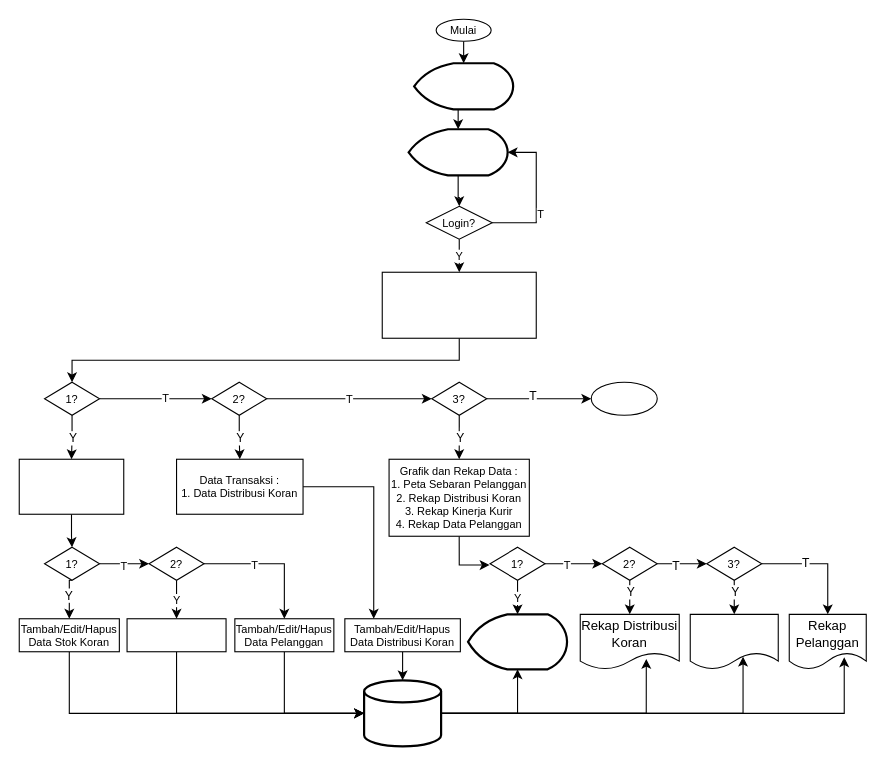
Some shapes in this 886 by 767 pixel diagram are drawn without their labels. The shapes that lost their labels are listed below. From the top down, each one's centre as x and y in pixels, then its label:
At point 463,86: "Landing Page".
At point 457,152: "Halaman Login".
At point 458,304: "Menu : 1. Data Master 2. Data Transaksi 3. Grafik dan Rekap Data".
At point 623,398: "Selesai".
At point 71,486: "Data Master : 1. Data Koran 2. Data Kurir 3. Data Pelanggan".
At point 176,635: "Tambah/Edit/Hapus Data Kurir".
At point 517,641: "Peta Sebaran Pelanggan".
At point 733,641: "Rekap Kinerja Kurir".
At point 402,713: "Basis Data".
